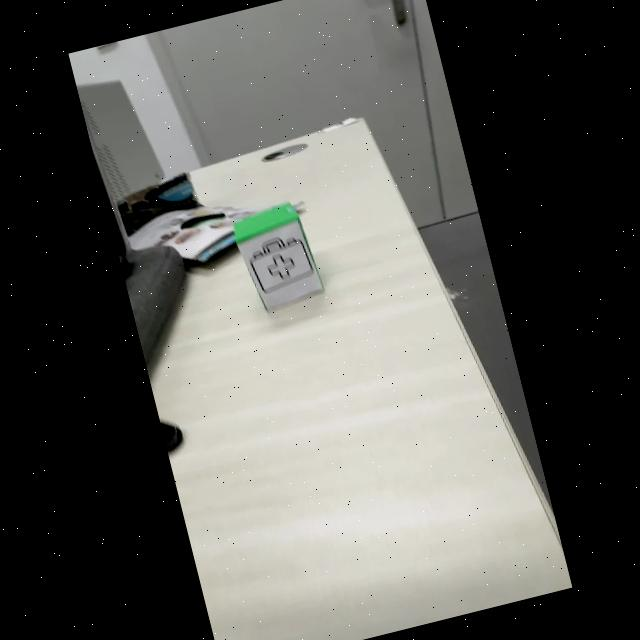Medkit: (250, 237, 312, 293)
